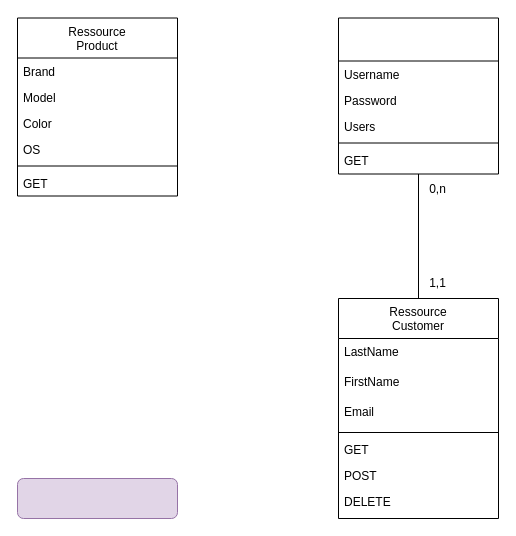
The diagram is 516 pixels wide and 536 high, and some of its shapes have lost their labels. The box of each missing label's shape, as (x1, y1, x2, y2) in pixels:
BileMo: (16, 478, 178, 518)
Ressource Client: (338, 17, 498, 174)
